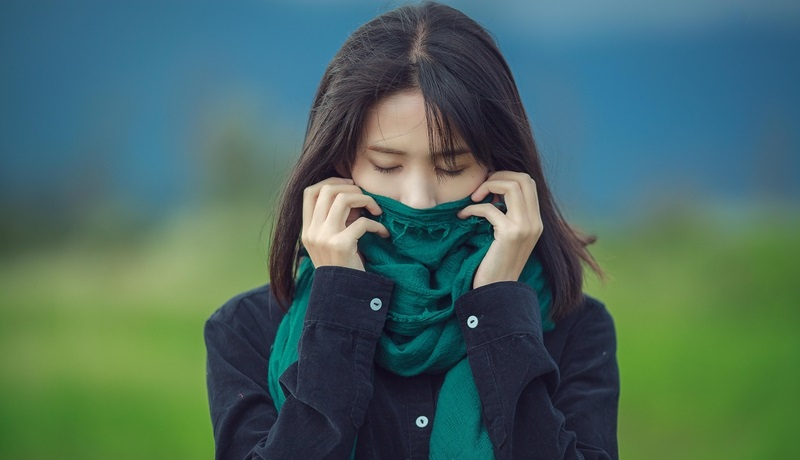face_mask: (350, 82, 496, 263)
